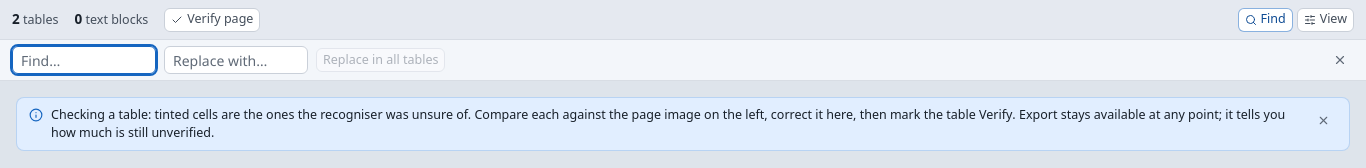
Find bar match counter and stepping › steps forward in reading order and jumps to the matched cell
The image size is (1366, 168).
Type "total" into the field with placeholder "Find…" at (84, 60), box top-left (12, 46), bottom-right (156, 74)
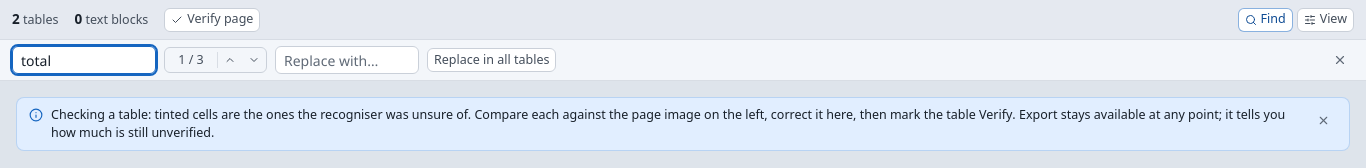
Click the button named "Next match" at (254, 60), box top-left (242, 48), bottom-right (266, 72)
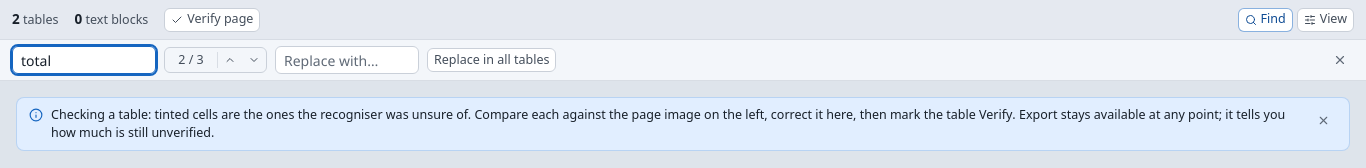
Expected: the text "2 / 3" is shown, top-left (178, 51), bottom-right (204, 68)
